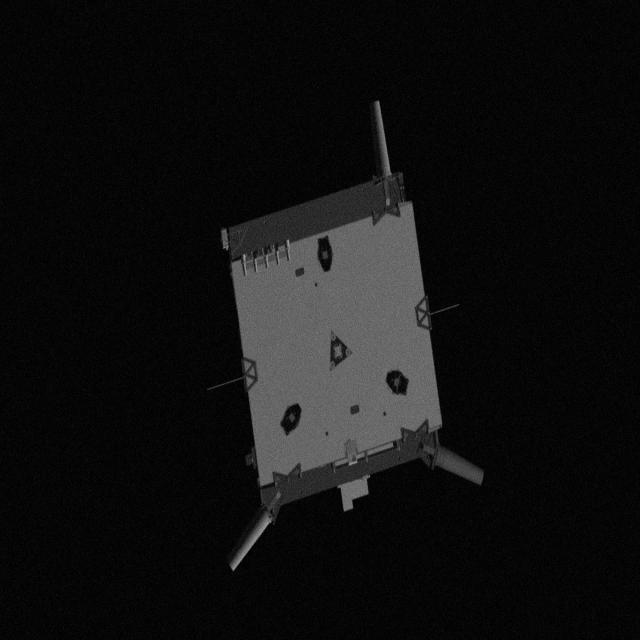medium_debris: (208, 92, 502, 578)
